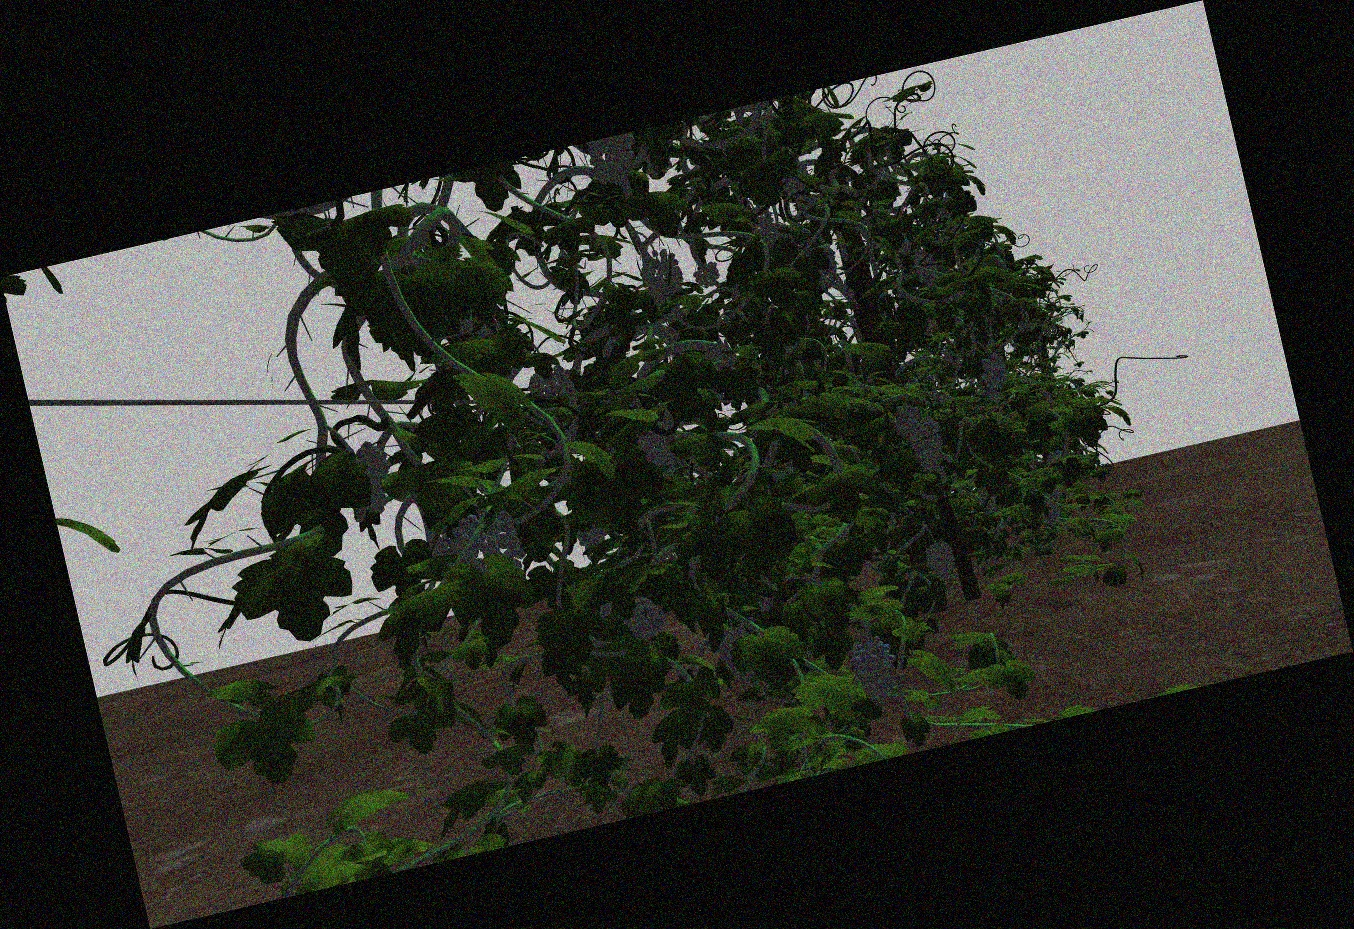grape: (453, 508, 516, 563), (852, 636, 899, 706), (348, 444, 392, 517), (640, 248, 684, 302), (590, 140, 638, 185), (640, 417, 680, 471), (621, 591, 662, 643), (531, 367, 576, 413), (912, 418, 945, 472), (926, 541, 956, 583), (892, 405, 920, 439), (816, 246, 838, 289), (915, 249, 938, 288), (1040, 488, 1063, 526), (750, 206, 776, 238), (694, 262, 722, 288), (984, 356, 1001, 396), (995, 352, 1008, 389), (981, 492, 999, 516)
